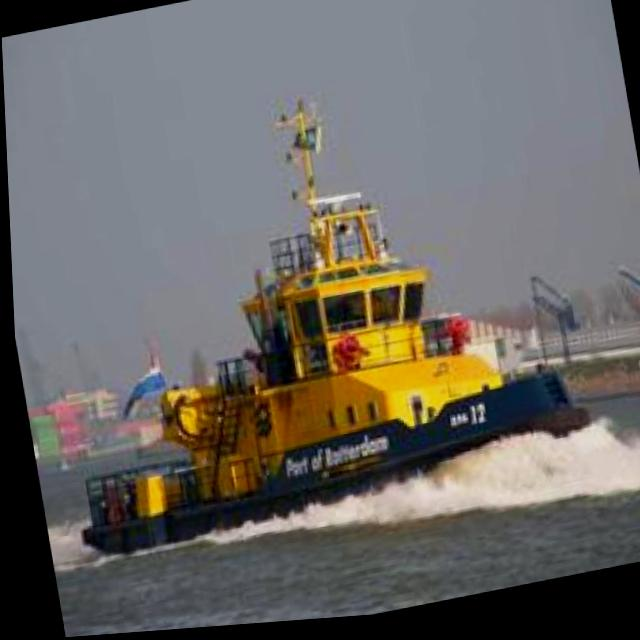ship2: (78, 140, 586, 556)
